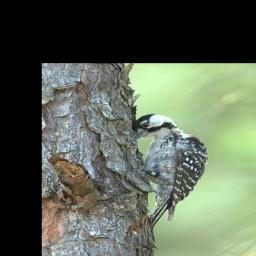Woodpecker: (132, 114, 211, 227)
